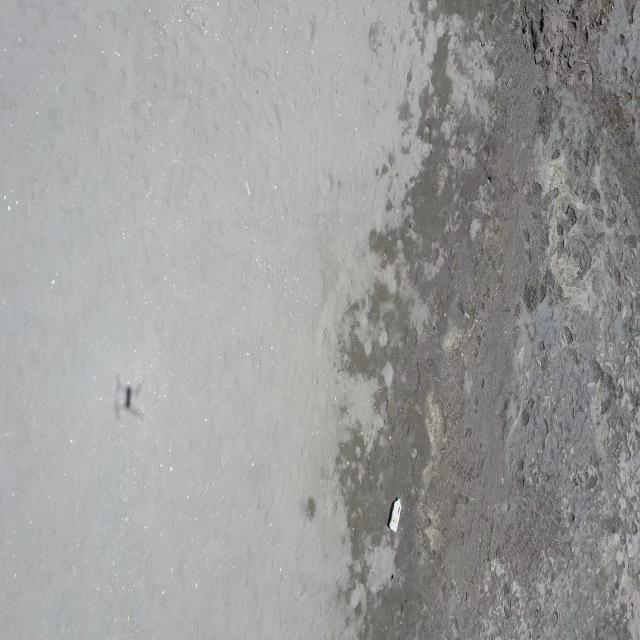Garbage: (387, 497, 400, 531)
